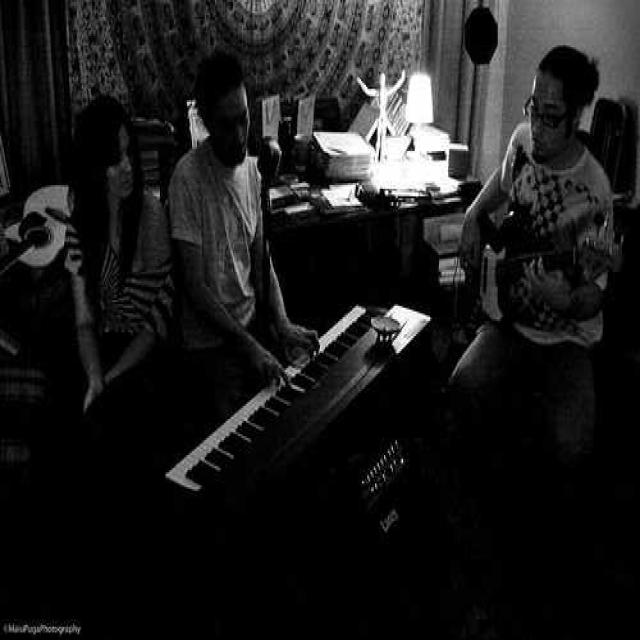microphone: (254, 132, 285, 198)
